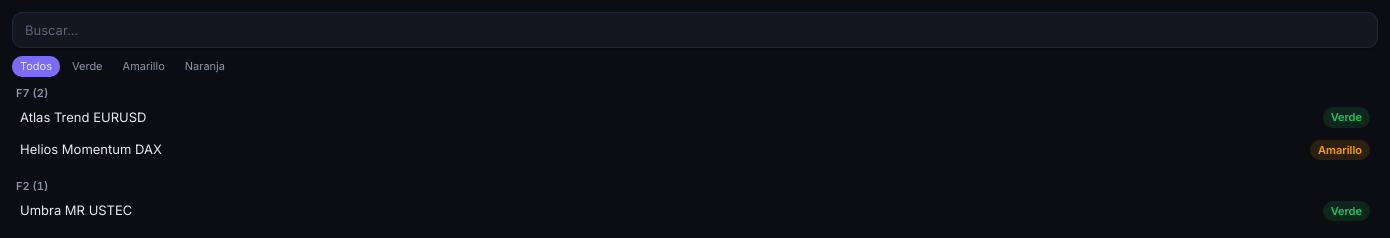
Test case: BotList › estado vacio cuando la busqueda no encuentra nada
Type "zzz-inexistente" into the field with placeholder "Buscar…".
click(695, 30); type("zzz-inexistente")  # box [12,12,1378,48]
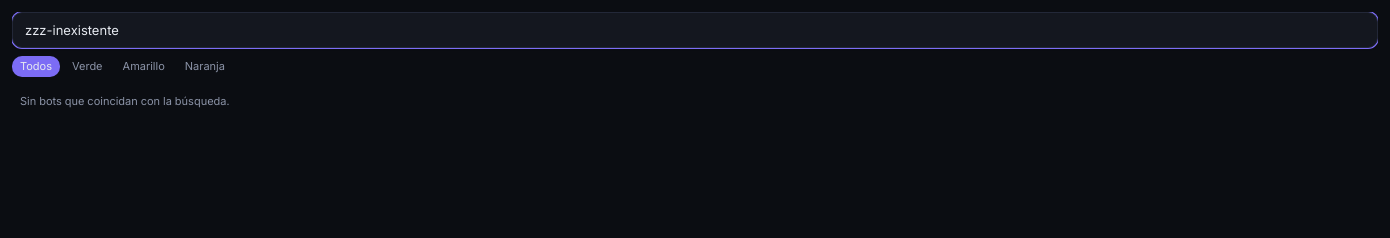
Now the text "Sin bots que coincidan con la búsqueda." is shown, box [20,94,229,108]
